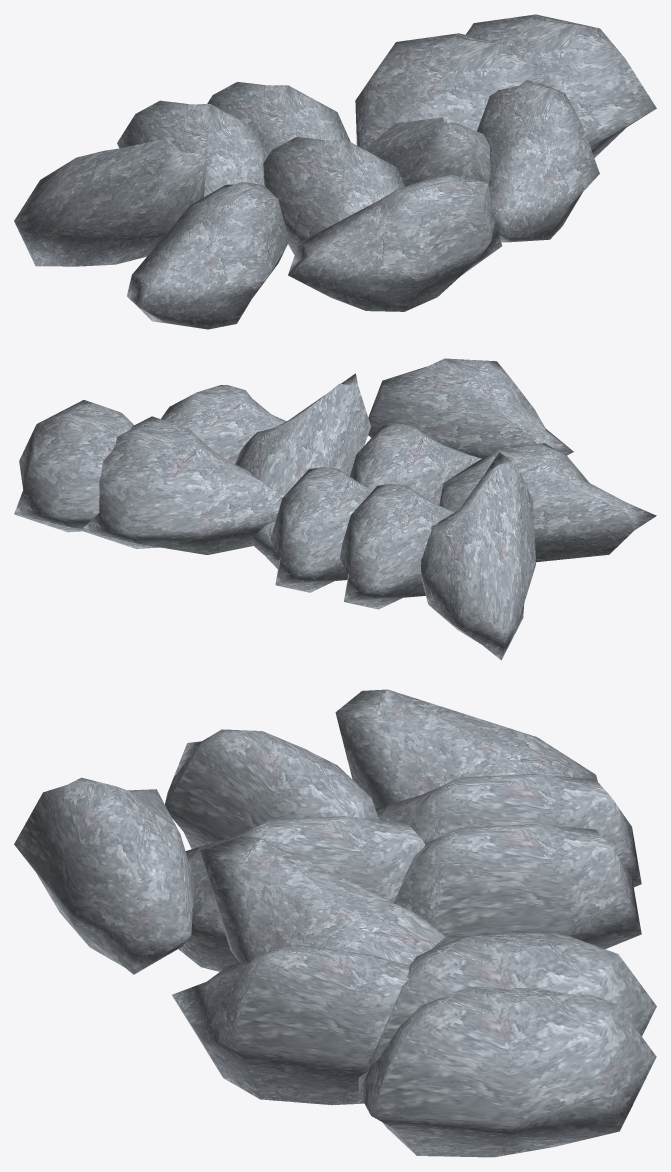
The model's file is coal.fbx.
3 views of the same model, one above another, from view 1: azimuth 30°, elevation 25°; view 2: azimuth 150°, elevation 25°; view 3: azimuth 270°, elevation 25° (orthographic). The views are drawn at different scales.
Visible parts, largest first — view 1: coal; view 2: coal; view 3: coal.
Part boxes in pixels (left/top/right/bottom): coal: left=14, top=14, right=656, bottom=329; coal: left=14, top=358, right=656, bottom=660; coal: left=14, top=689, right=656, bottom=1157.
Bounding box in the file's own units: 86.53 × 22.02 × 60.7.
Materials: 1 (1 with a texture image).
